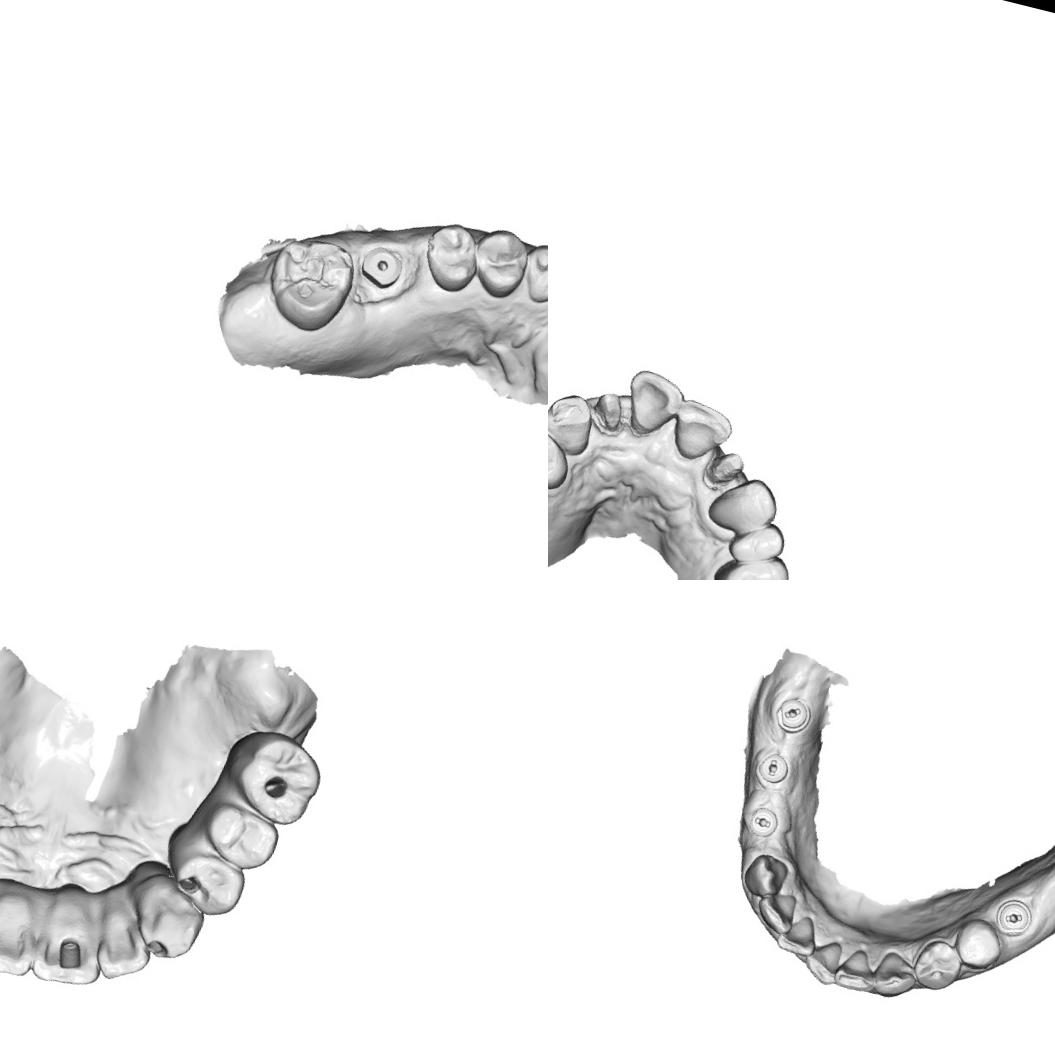canine: (125, 864, 215, 968), (548, 386, 600, 460), (868, 946, 922, 1004), (739, 848, 791, 902), (518, 236, 548, 313)
crown: (701, 442, 752, 494), (589, 383, 632, 438)
implant: (357, 242, 406, 292)
implant_minus: (992, 894, 1036, 939), (771, 693, 814, 736), (753, 748, 793, 788), (744, 802, 780, 840)
incisor: (23, 916, 112, 996), (663, 392, 738, 470), (618, 364, 690, 443), (90, 916, 158, 990), (0, 902, 45, 983), (829, 943, 883, 995), (772, 908, 822, 958), (798, 934, 844, 987), (752, 886, 799, 936)
molar: (216, 723, 330, 832), (258, 228, 362, 339), (705, 543, 795, 580)
premolar: (189, 792, 287, 878), (160, 836, 251, 924), (700, 466, 786, 542), (414, 217, 484, 297), (467, 222, 534, 303), (723, 511, 790, 573), (948, 913, 1008, 974), (908, 934, 966, 995), (548, 412, 578, 494)
